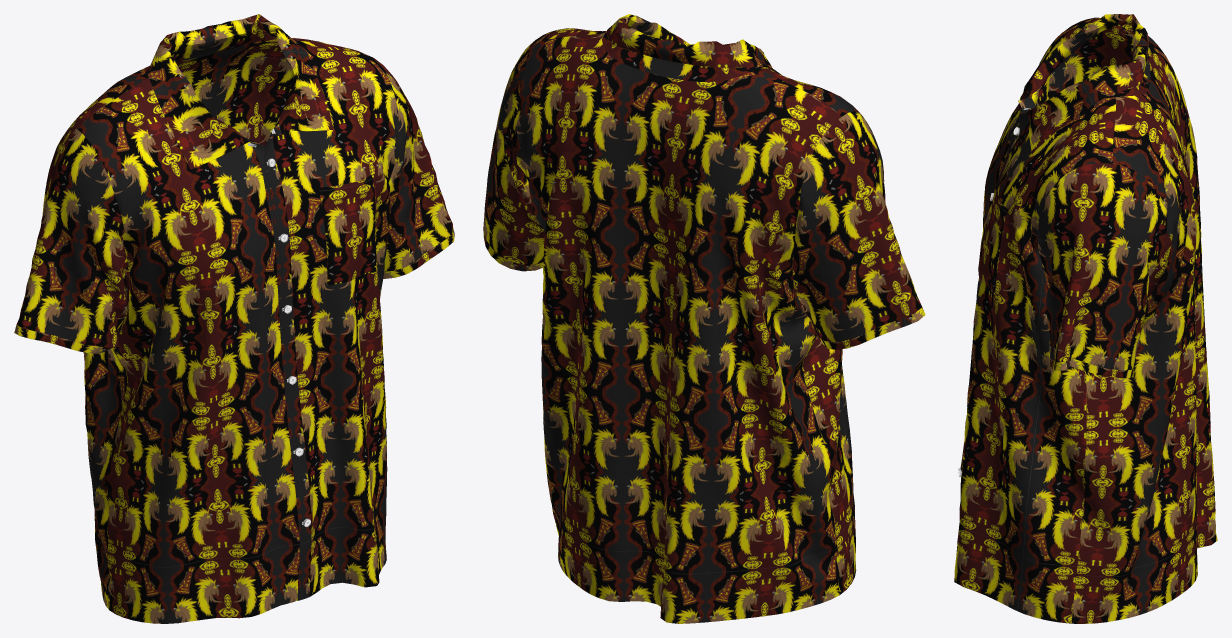
File: shirt_short.glb
3 renders of one model, left to right at view 1: azimuth 30°, elevation 25°; view 2: azimuth 150°, elevation 25°; view 3: azimuth 270°, elevation 25°, orthographic. The views are drawn at different scales.
Parts seen in each view (by area): view 1: Object_6, Object_13, Object_3, Object_5, Object_12, Object_4, Object_11, Object_8, Object_7; view 2: Object_3, Object_13, Object_6, Object_12, Object_5, Object_8; view 3: Object_3, Object_6, Object_12, Object_5, Object_13, Object_11, Object_7, Object_4.
Part boxes in pixels (left/top/right/bottom): Object_6: left=78, top=40, right=398, bottom=623; Object_13: left=16, top=127, right=128, bottom=347; Object_3: left=68, top=37, right=331, bottom=609; Object_5: left=144, top=14, right=333, bottom=169; Object_12: left=375, top=59, right=452, bottom=271; Object_4: left=245, top=124, right=311, bottom=600; Object_11: left=319, top=175, right=376, bottom=285; Object_8: left=14, top=325, right=111, bottom=353; Object_7: left=383, top=227, right=454, bottom=278; Object_3: left=515, top=33, right=840, bottom=623; Object_13: left=792, top=111, right=921, bottom=342; Object_6: left=532, top=28, right=861, bottom=594; Object_12: left=483, top=40, right=544, bottom=264; Object_5: left=602, top=14, right=782, bottom=81; Object_8: left=820, top=307, right=925, bottom=349; Object_3: left=1071, top=29, right=1217, bottom=623; Object_6: left=954, top=17, right=1115, bottom=623; Object_12: left=1037, top=163, right=1171, bottom=370; Object_5: left=1024, top=14, right=1150, bottom=154; Object_13: left=1037, top=28, right=1133, bottom=104; Object_11: left=978, top=180, right=1008, bottom=298; Object_7: left=1050, top=358, right=1134, bottom=378; Object_4: left=960, top=96, right=1035, bottom=479.
Size of the model in its own units: 589 by 702 by 317.
Materials: 11 (10 with a texture image).
